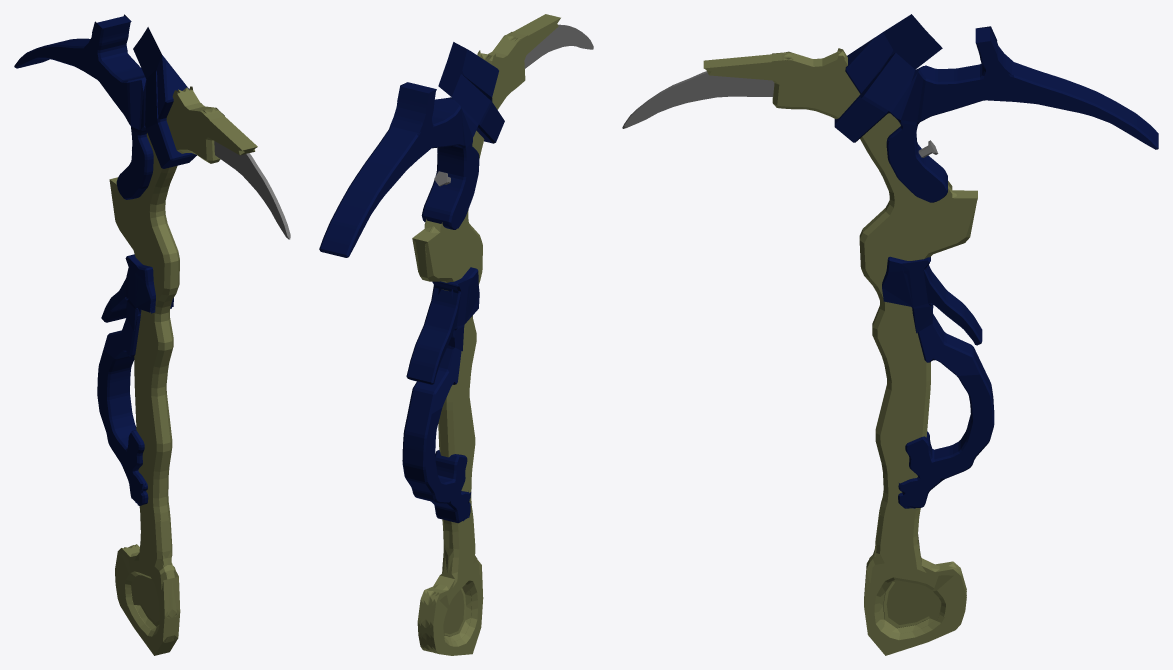
Rendered from BlazeReap.obj.
The picture shows the model from 3 angles, left to right: view 1: azimuth 30°, elevation 25°; view 2: azimuth 150°, elevation 25°; view 3: azimuth 270°, elevation 25°; orthographic projection. The views are drawn at different scales.
Visible parts, largest first — view 1: Main, Black, silver; view 2: Black, Main, silver; view 3: Main, Black, silver.
Boxes of the visible parts, x1,y1,x2,y2 form: Main: (109, 86, 257, 655); Black: (14, 14, 196, 505); silver: (214, 141, 290, 239); Black: (319, 42, 504, 523); Main: (412, 14, 560, 655); silver: (434, 24, 593, 186); Main: (703, 48, 977, 655); Black: (834, 14, 1158, 508); silver: (622, 71, 938, 157).
Size of the model in its own units: 1.33 by 26.77 by 20.42.
Materials: 3 (3 with a texture image).
